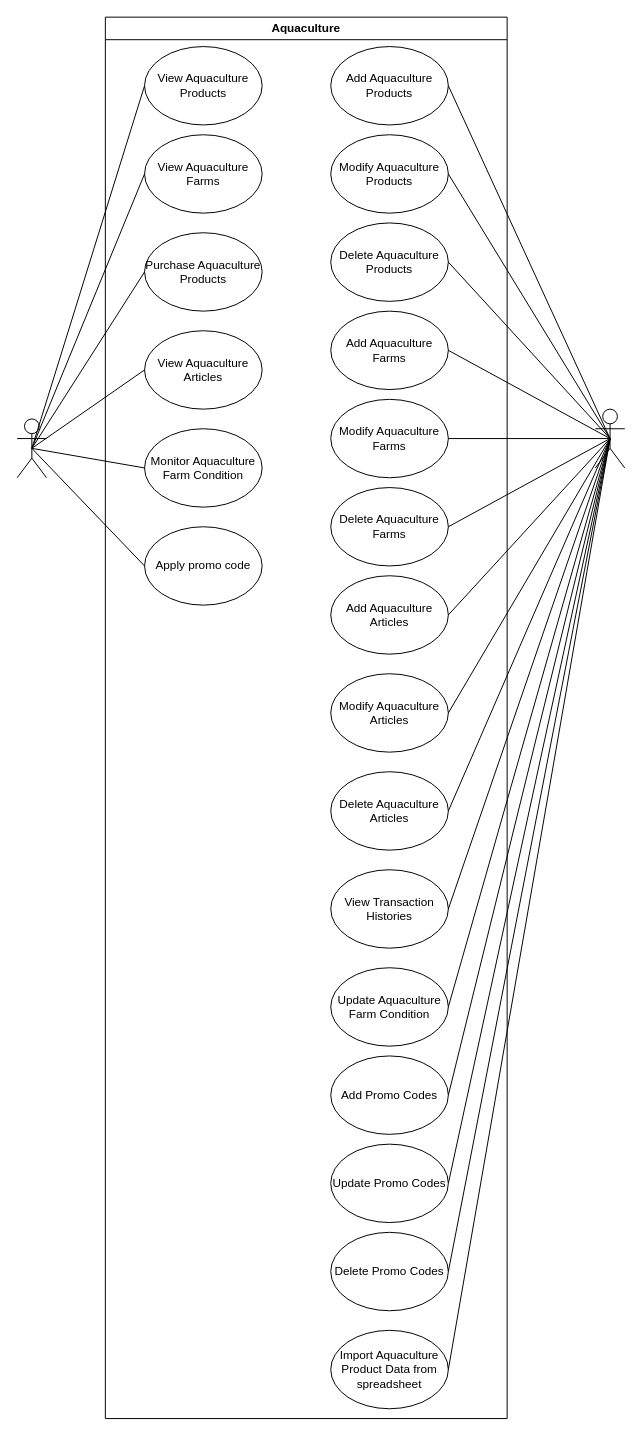
Some shapes in this 644 by 1436 pixel diagram are drawn without their labels. The shapes that lost their labels are listed below. From the top down, each one's centre as x and y in pixels, then its label:
the point at 31,448: User
the point at 609,438: Admin
